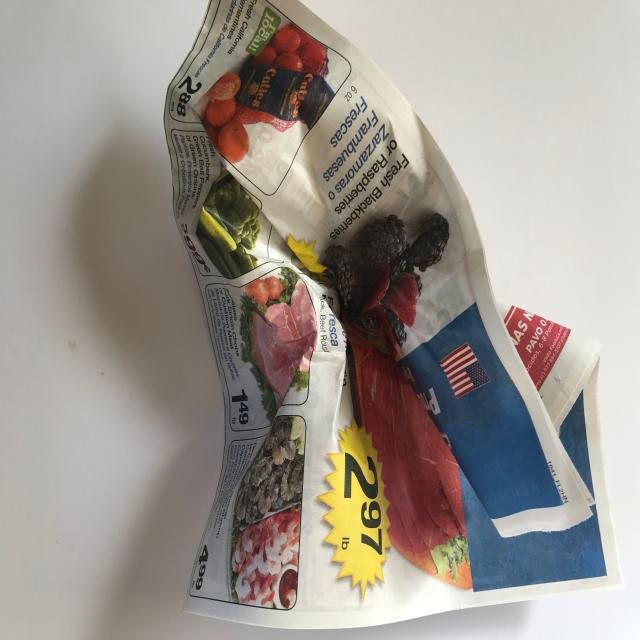Paper: (166, 0, 620, 631)
